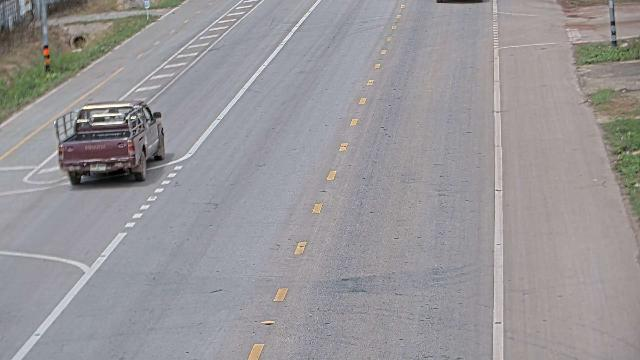pickup-truck: (53, 99, 165, 186)
